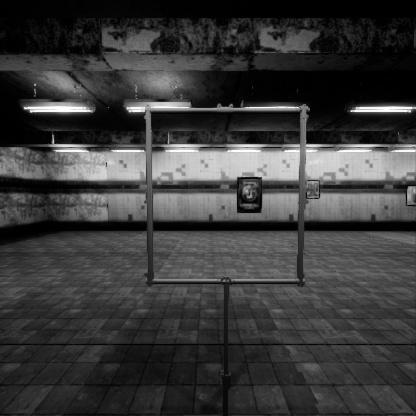gate: (146, 129, 324, 310)
